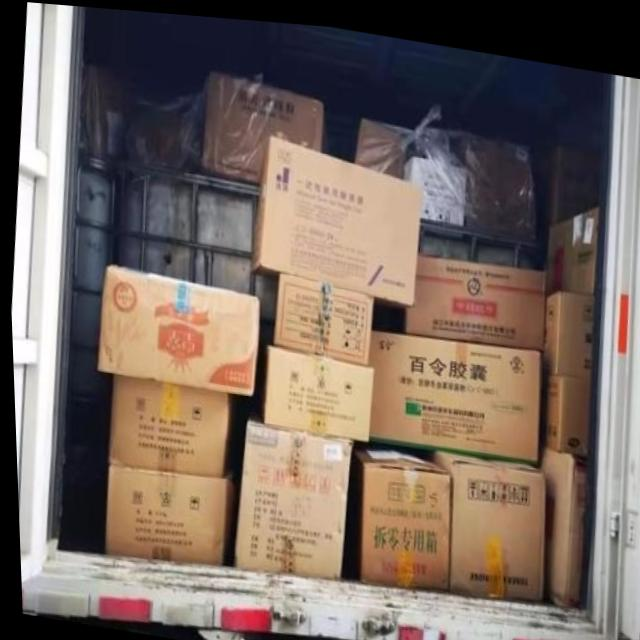box: (250, 129, 424, 298), (367, 323, 541, 453), (229, 389, 350, 574), (92, 263, 256, 389), (425, 438, 541, 590), (338, 437, 448, 581), (197, 71, 325, 182), (401, 245, 544, 341), (100, 462, 235, 561), (105, 371, 226, 472), (260, 335, 374, 437), (511, 122, 600, 230), (270, 267, 374, 358), (537, 436, 592, 599), (450, 126, 532, 225), (535, 357, 589, 449), (544, 195, 597, 287), (538, 280, 594, 365), (79, 60, 127, 153), (403, 148, 467, 214), (353, 109, 410, 173)
